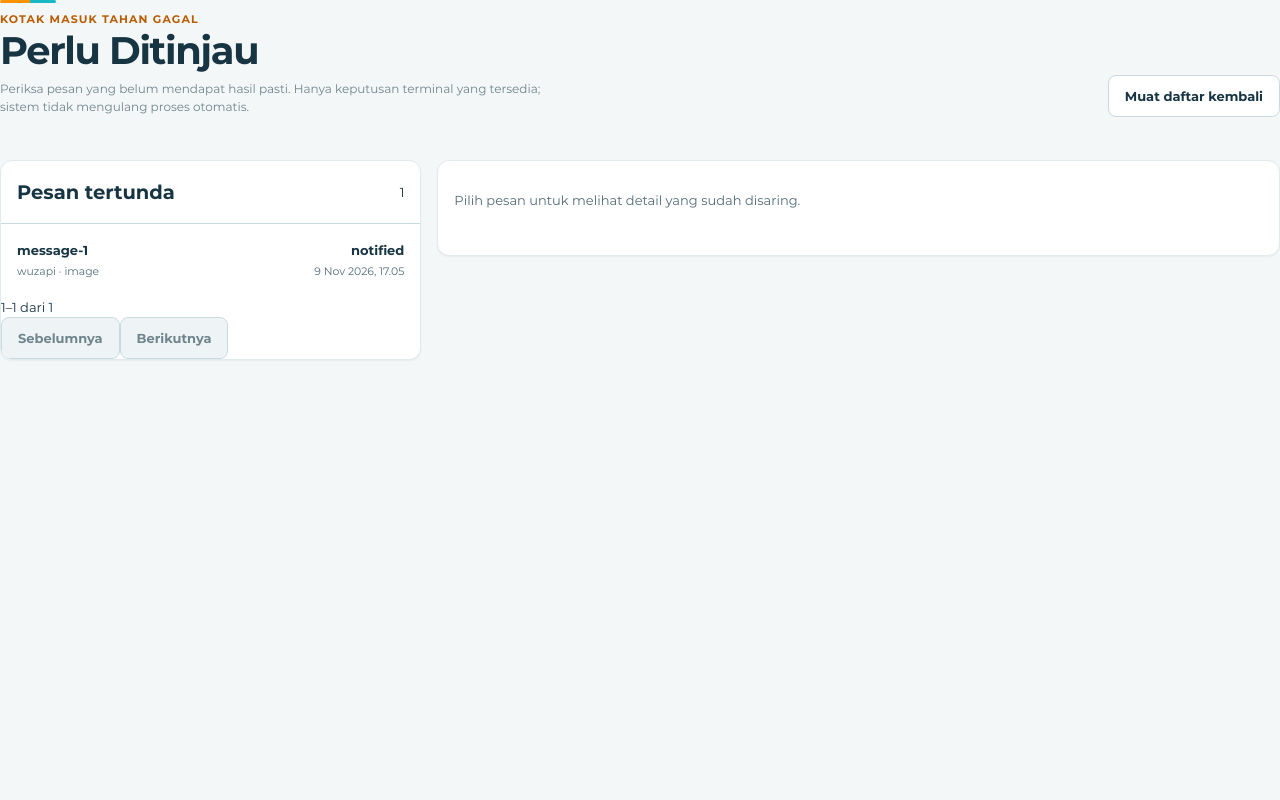
Test: Perlu Ditinjau workspace › maps conflict and ledger service failures for the owner
Click the button with aria-label "Tinjau message-1" at (53, 250), box [1,224,420,297]
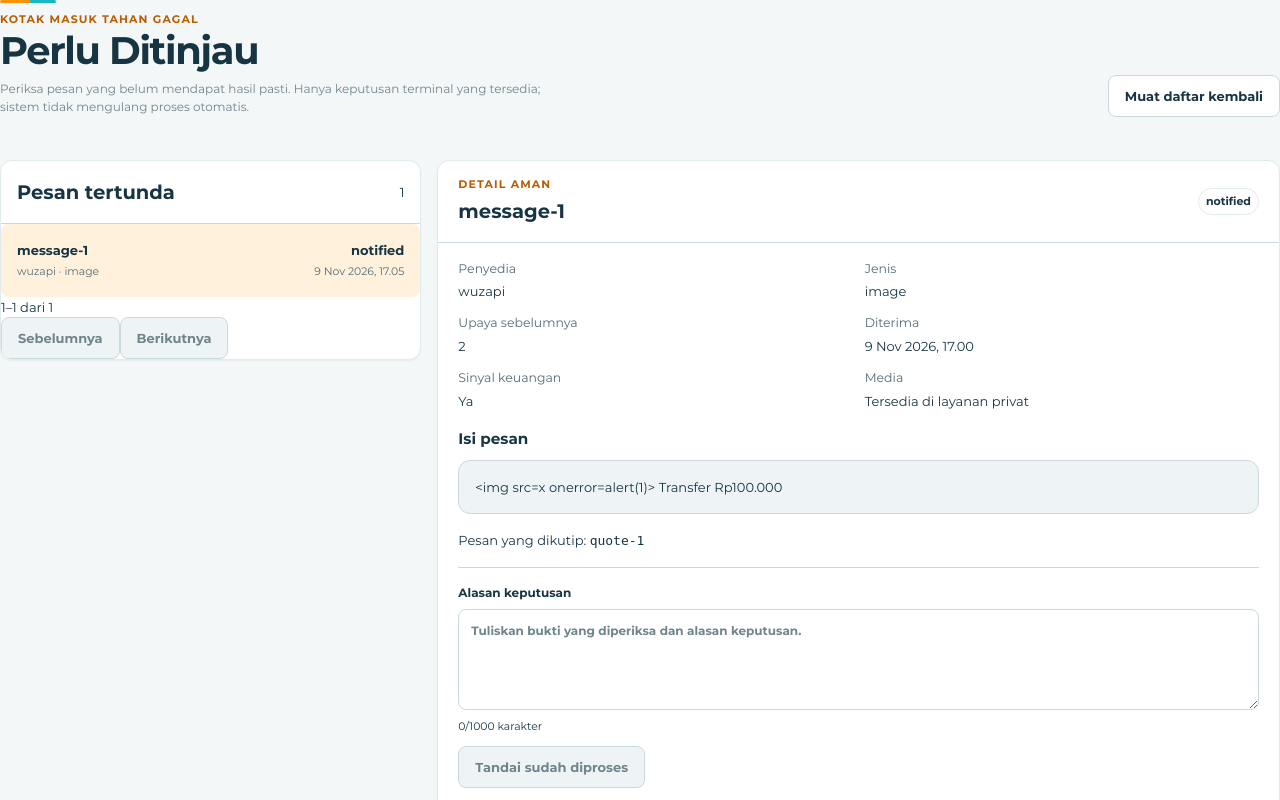
Type "Sudah masuk ledger" into the text box labelled "Alasan keputusan" at (859, 659), box [458,609,1259,710]
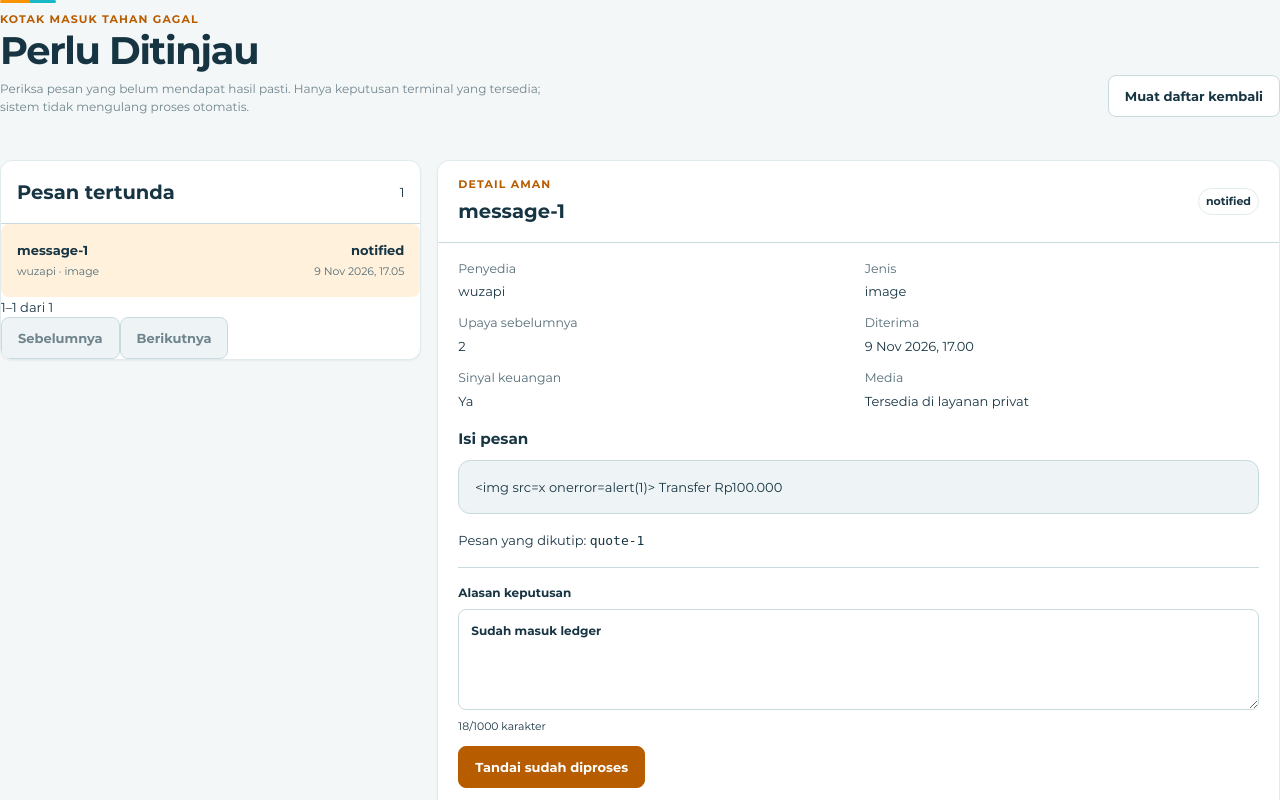
Click the button "Tandai sudah diproses" at (552, 767), box [458,746,645,788]
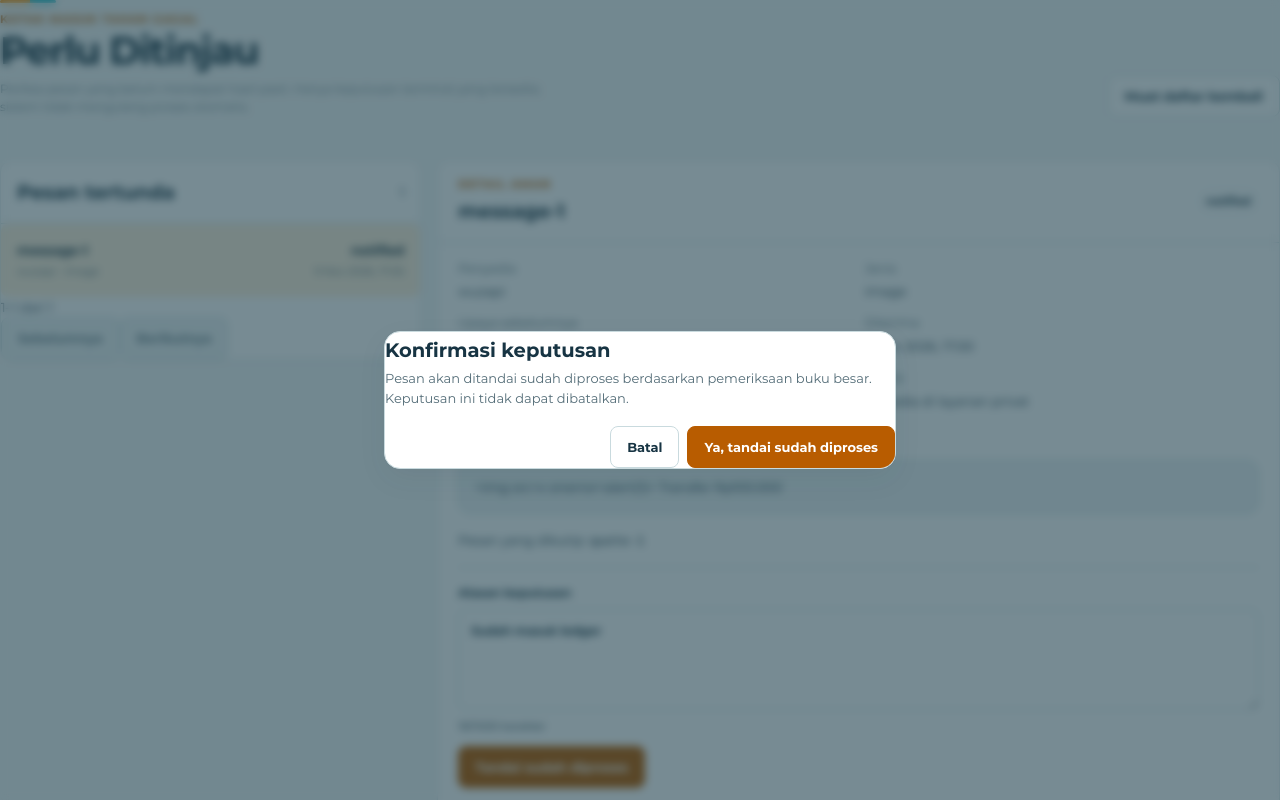
Click the button "Ya, tandai sudah diproses" at (791, 447), box [688,426,895,468]
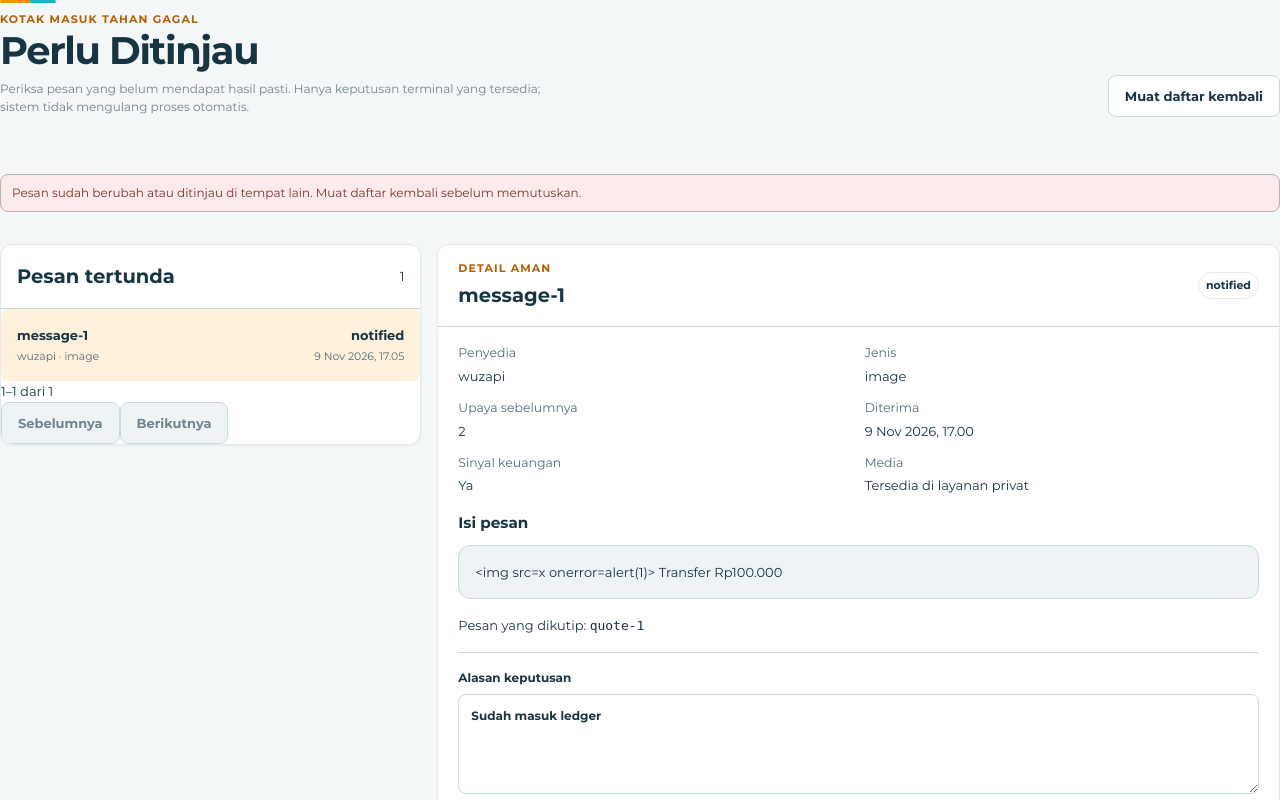
Now the message shows "sudah berubah", box [12,185,581,200]
